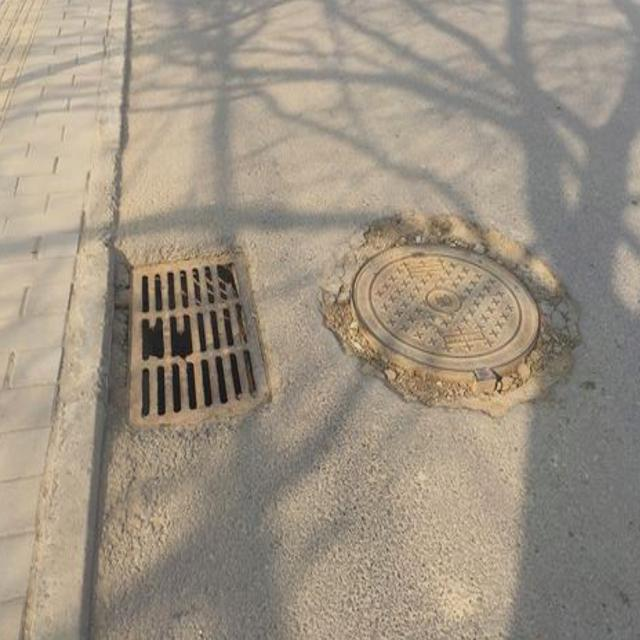circle: (312, 195, 582, 425)
